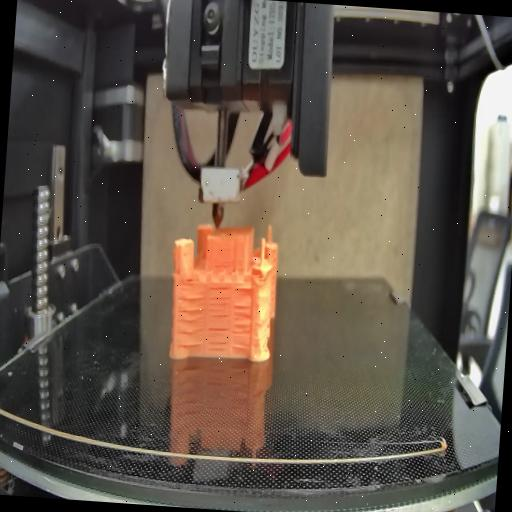cracks: (174, 294, 208, 348), (232, 301, 254, 350), (208, 288, 234, 320), (206, 324, 230, 351), (214, 260, 234, 272), (233, 286, 253, 294), (184, 274, 198, 284)
